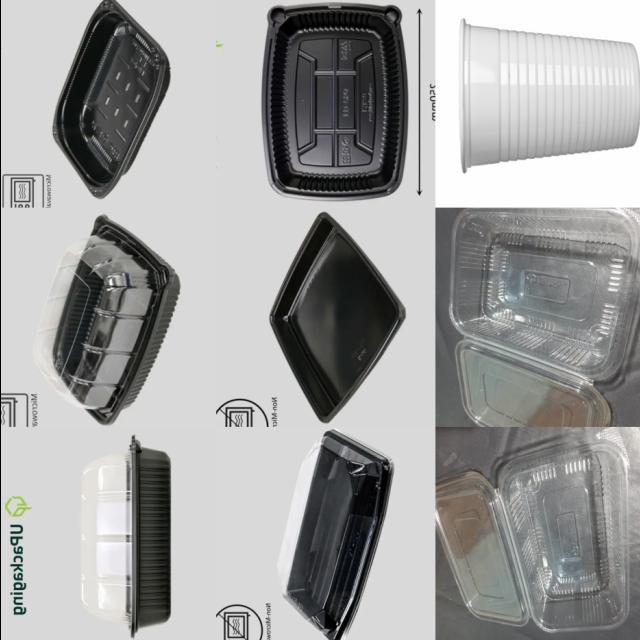plastik: (448, 209, 638, 426), (437, 441, 627, 632), (32, 216, 178, 425), (261, 4, 406, 200), (270, 213, 403, 423), (458, 19, 638, 172), (277, 430, 392, 640), (52, 0, 169, 198), (81, 438, 169, 636)
